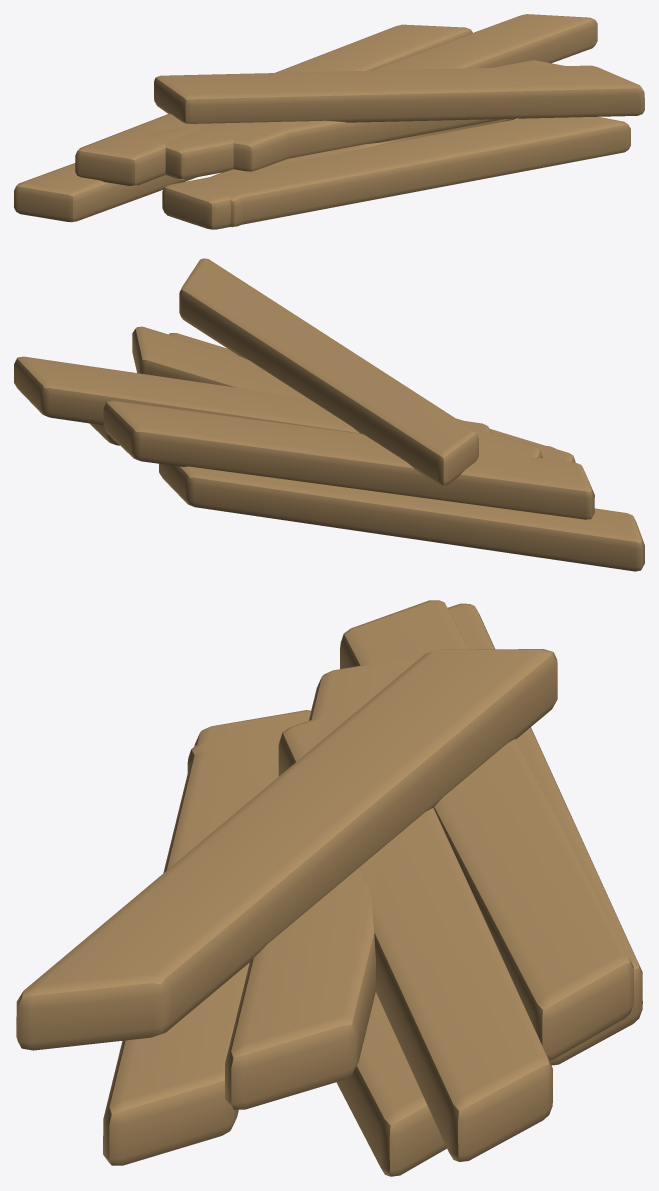
File: ChipClump.fbx
3 renders of one model, top to bottom at view 1: azimuth 30°, elevation 25°; view 2: azimuth 150°, elevation 25°; view 3: azimuth 270°, elevation 25°, orthographic. The views are drawn at different scales.
Parts seen in each view (by area): view 1: pasted__pasted__polySurface10; view 2: pasted__pasted__polySurface10; view 3: pasted__pasted__polySurface10.
Part boxes in pixels (bbox=[...]): pasted__pasted__polySurface10: bbox=[14, 14, 644, 229]; pasted__pasted__polySurface10: bbox=[14, 258, 644, 571]; pasted__pasted__polySurface10: bbox=[16, 600, 642, 1176].
Size of the model in its own units: 19.19 by 2.72 by 8.97.
